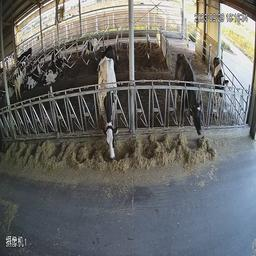cow: (170, 48, 207, 152), (94, 54, 119, 159), (211, 49, 229, 98), (78, 25, 99, 59), (43, 54, 66, 83), (11, 57, 24, 102), (25, 58, 41, 90)
